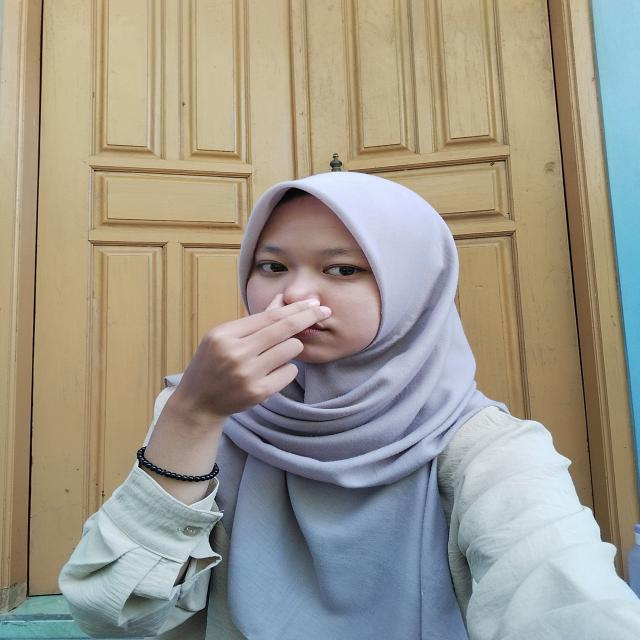bau: (185, 278, 334, 428)
